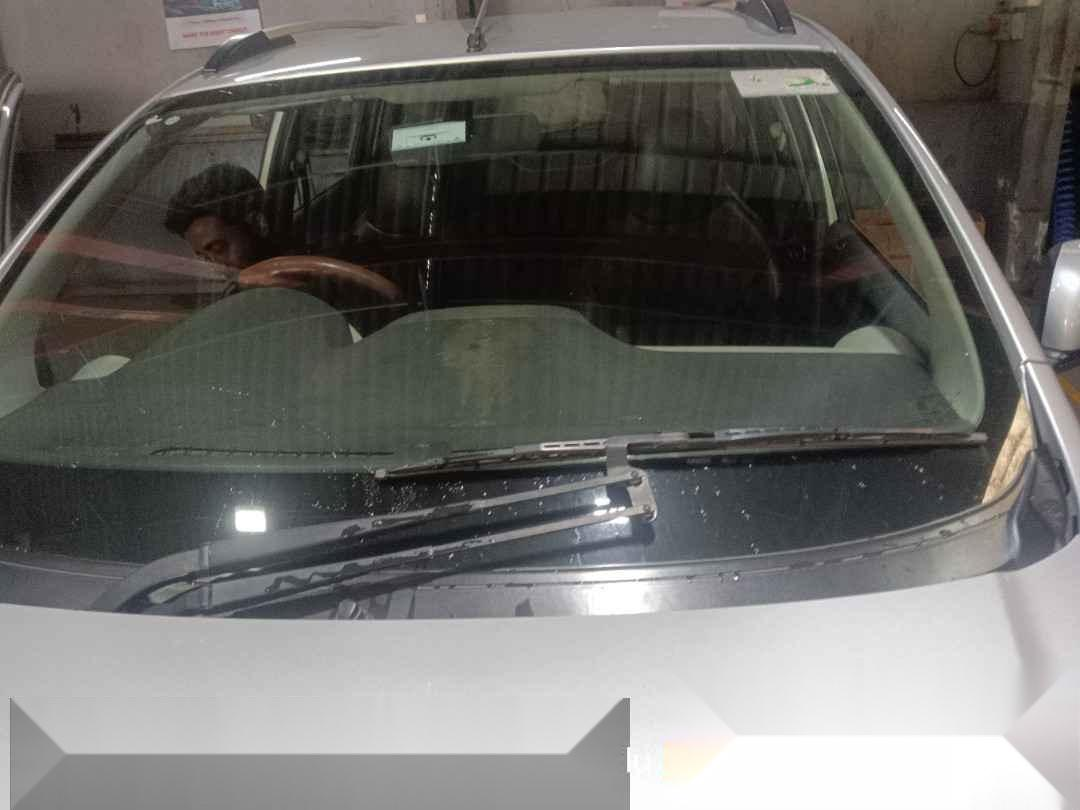FastTag: (372, 112, 487, 158)
not a FastTag: (723, 64, 841, 107)
